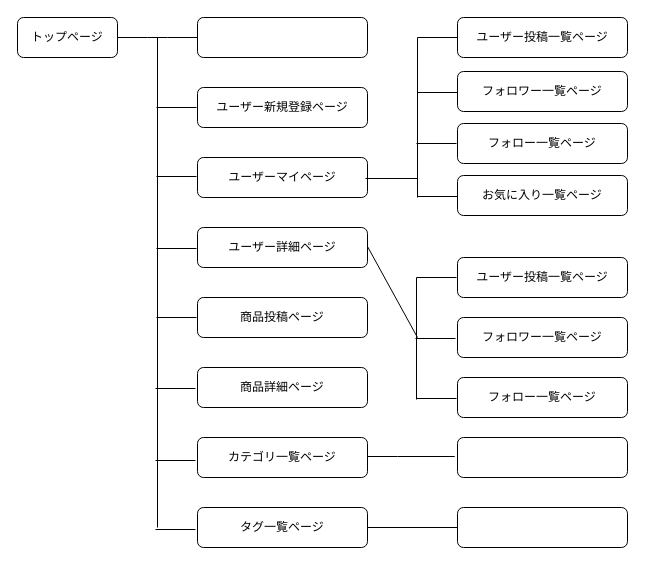
The diagram is 645 pixels wide and 565 high, and some of its shapes have lost their labels. The shapes that lost their labels are listed below. From the top down, each one's box as (x1, y1, x2, y2) in pixels, then its label:
(196, 16, 368, 58): ユーザーログインページ
(456, 436, 628, 478): カテゴリ詳細ページ
(456, 506, 628, 548): タグ詳細ページ
